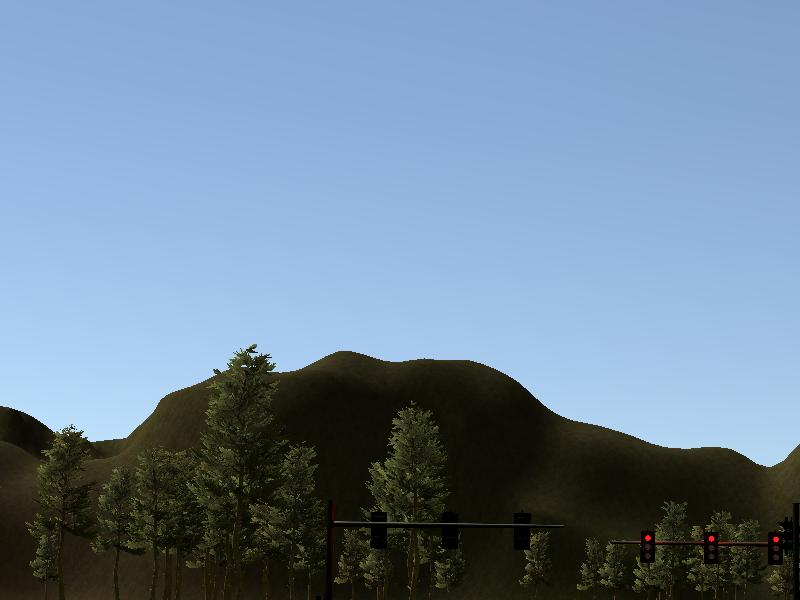Red: (702, 531, 720, 567), (640, 530, 656, 564), (767, 531, 783, 563)
